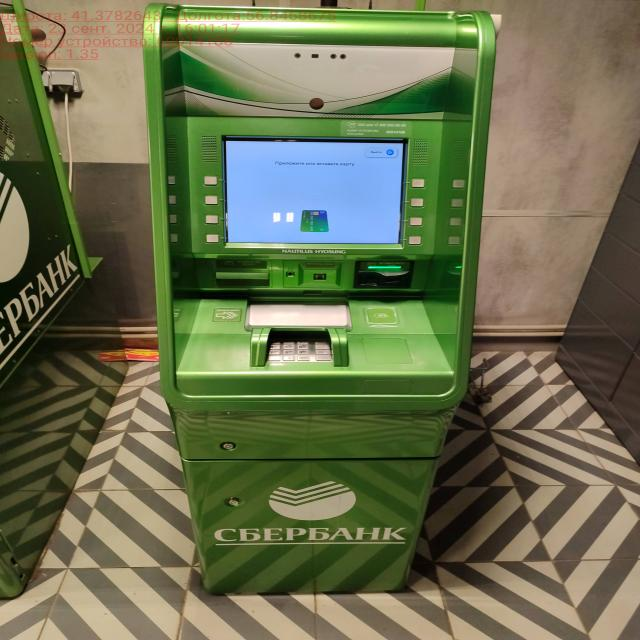bank: (143, 3, 494, 597), (0, 0, 134, 602)
